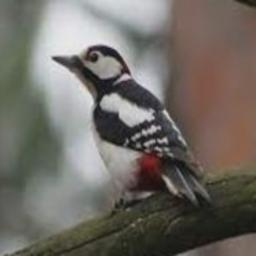Woodpecker: (50, 45, 211, 215)
